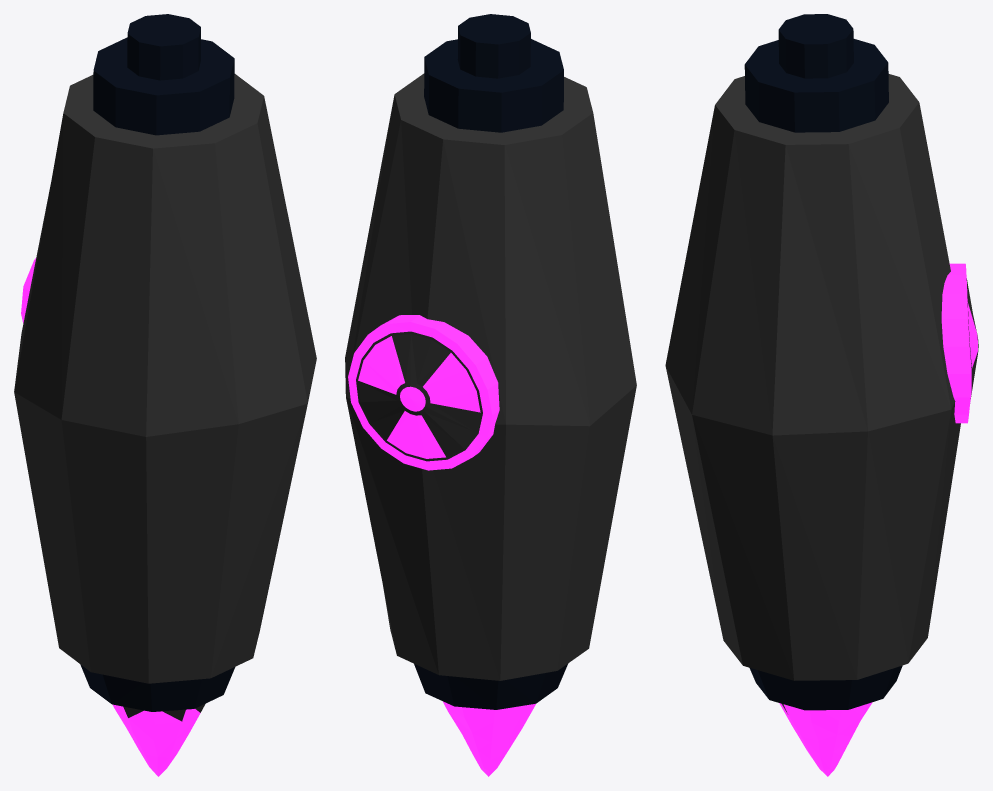
File: MO_bom.fbx
3 renders of one model, left to right at view 1: azimuth 30°, elevation 25°; view 2: azimuth 150°, elevation 25°; view 3: azimuth 270°, elevation 25°, orthographic.
Visible parts, largest first — view 1: bom; view 2: bom; view 3: bom.
Part boxes in pixels (x1=…): bom: x1=14, y1=14, x2=316, y2=776; bom: x1=345, y1=14, x2=636, y2=776; bom: x1=665, y1=14, x2=978, y2=776.
Size of the model in its own units: 13.55 by 38.31 by 14.53.
